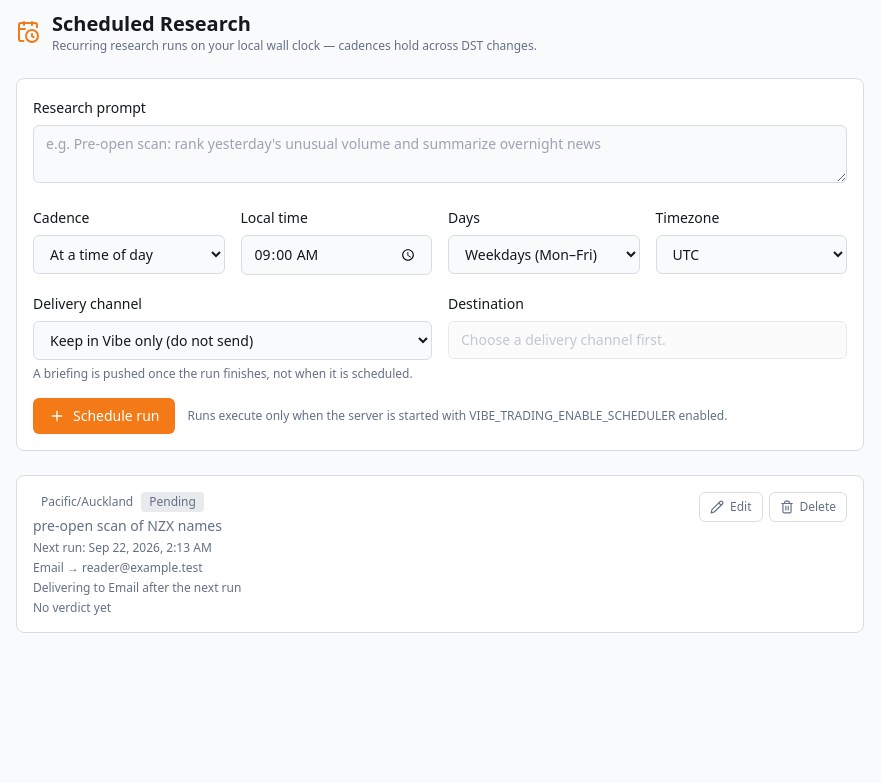
email format editing › loads, changes and resets the stored format
This screenshot has width=881, height=783.
Click the button with aria-label "Edit scheduled run" at point(731, 507), box left=699, top=492, right=762, bottom=522
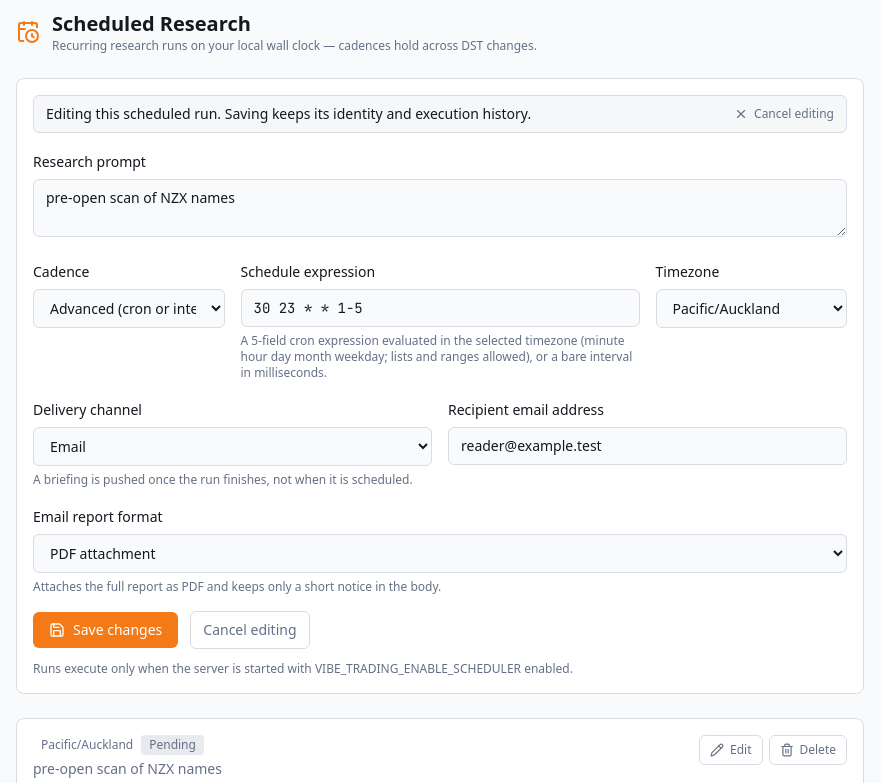
Expected: the dropdown labelled "Email report format" shows "PDF attachment"
Select "HTML email" in the dropdown labelled "Email report format" at point(440, 554), box left=33, top=534, right=847, bottom=573
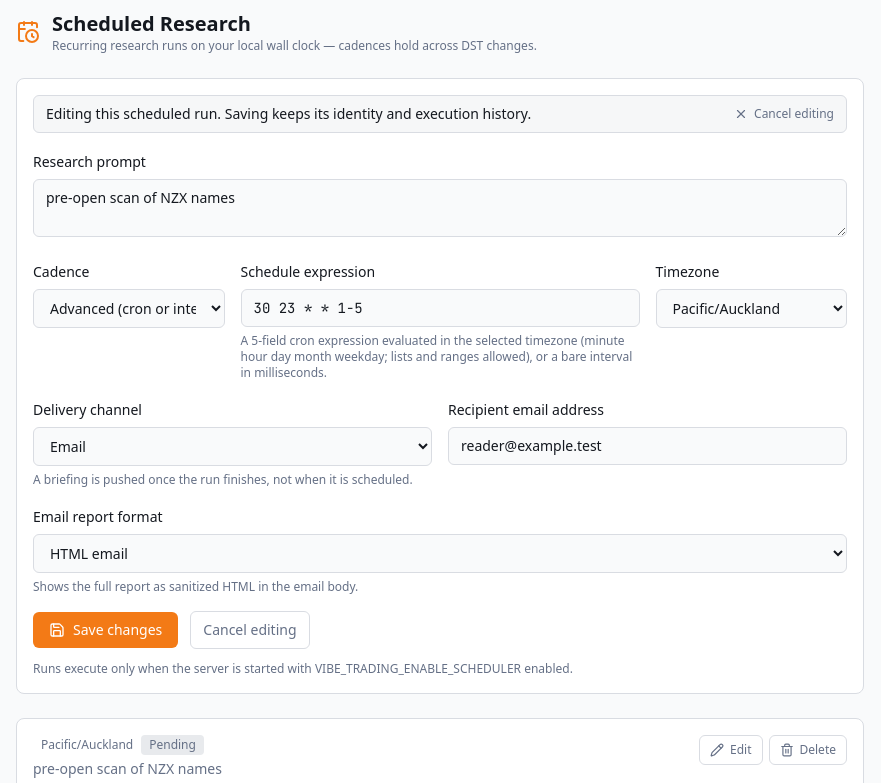
Click the button "Save changes" at point(106, 630), box left=33, top=612, right=178, bottom=648
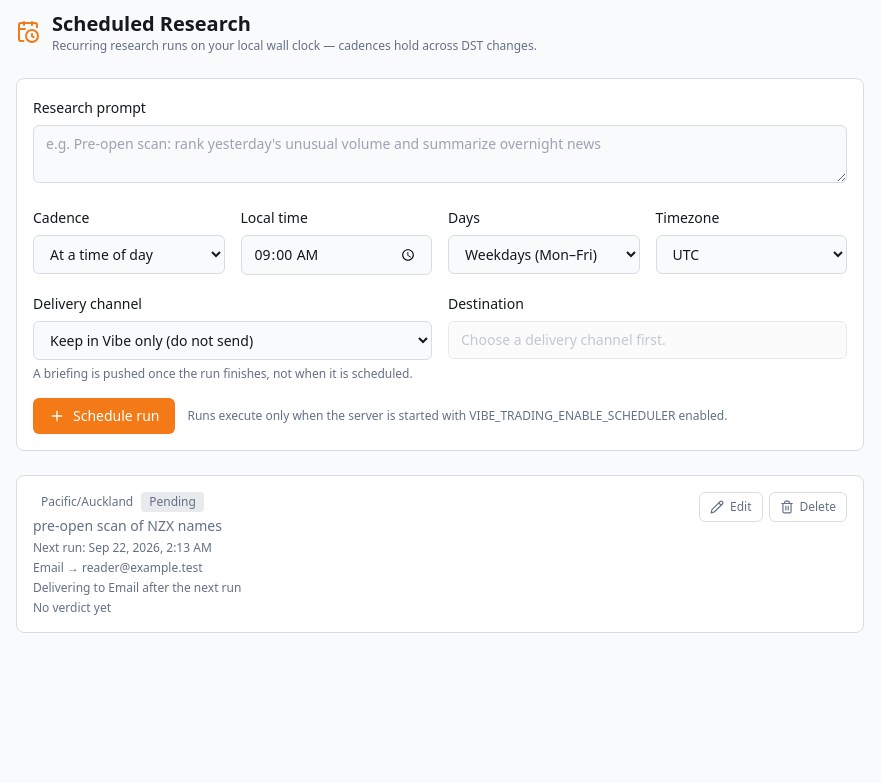
Expected: the dropdown labelled "Delivery channel" shows "Keep in Vibe only (do not send)"
Select "Email" in the dropdown labelled "Delivery channel" at point(232, 340), box left=33, top=321, right=432, bottom=360
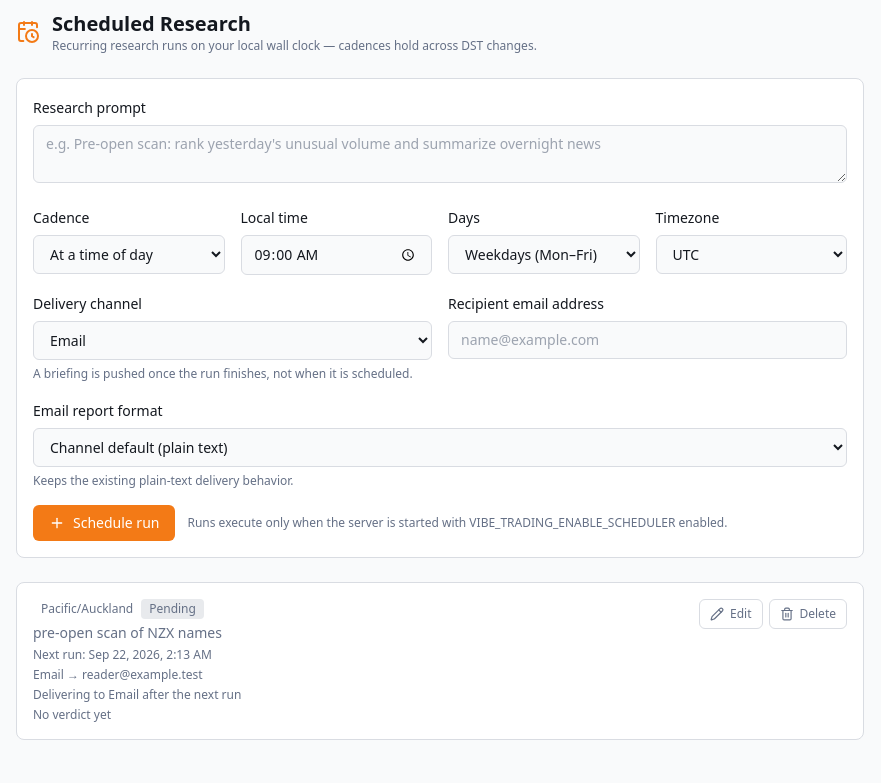
Expected: the dropdown labelled "Email report format" shows "Channel default (plain text)", left=33, top=428, right=847, bottom=467
